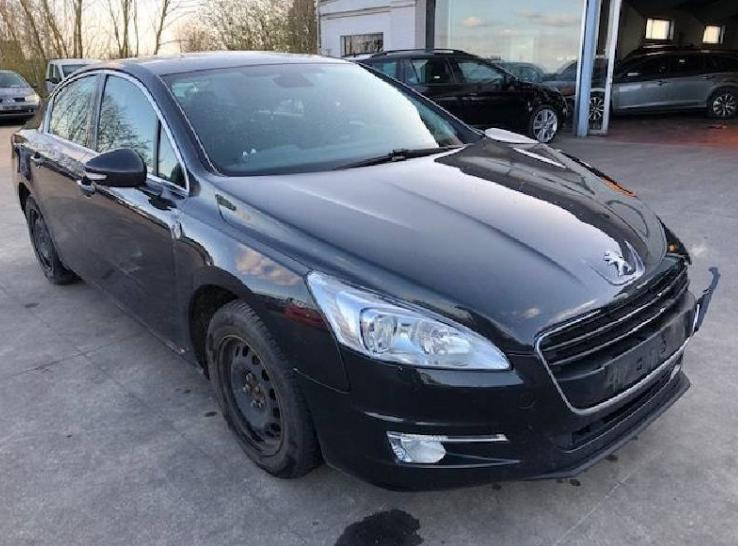Back-door: (35, 68, 99, 271)
Back-wheel: (26, 200, 74, 287)
Back-window: (48, 77, 95, 147)
Fender: (175, 160, 350, 394)
Front-bumper: (293, 220, 722, 492)
Front-door: (77, 71, 188, 341)
Front-wheel: (206, 304, 320, 478)
Front-window: (98, 74, 158, 172), (157, 125, 187, 192)
Grille: (537, 252, 690, 379)
Headlight: (307, 271, 512, 370)
Hood: (215, 130, 668, 353)
Mirror: (86, 148, 176, 210)
Quarter-panel: (12, 124, 41, 209)
Rocker-panel: (64, 264, 206, 377)
Roof: (56, 51, 349, 90)
Windshield: (160, 63, 482, 172)
